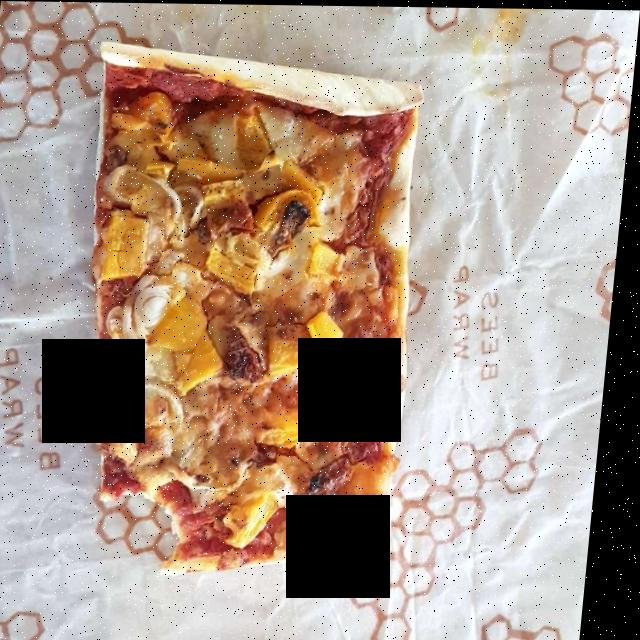pizza-with-vegetables-baked: (98, 60, 419, 563)
